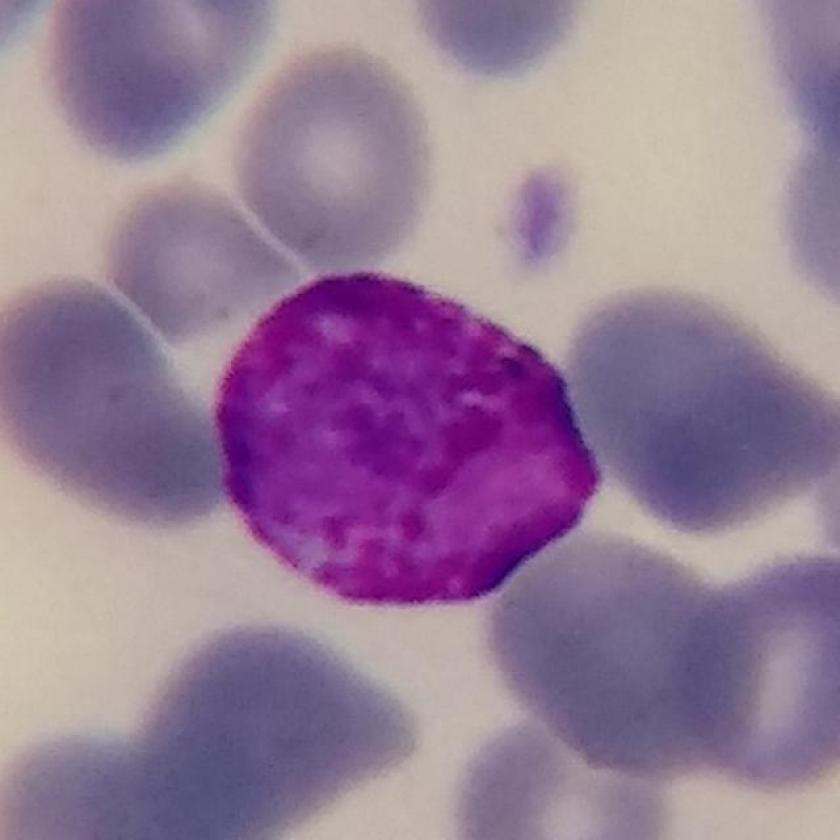basophil: (206, 236, 628, 623)
